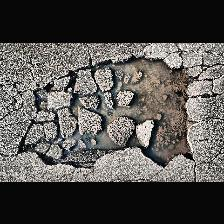pothole: (14, 52, 196, 170)
